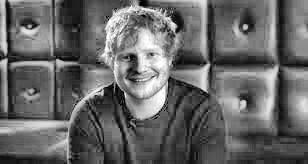happy: (105, 22, 172, 103)
